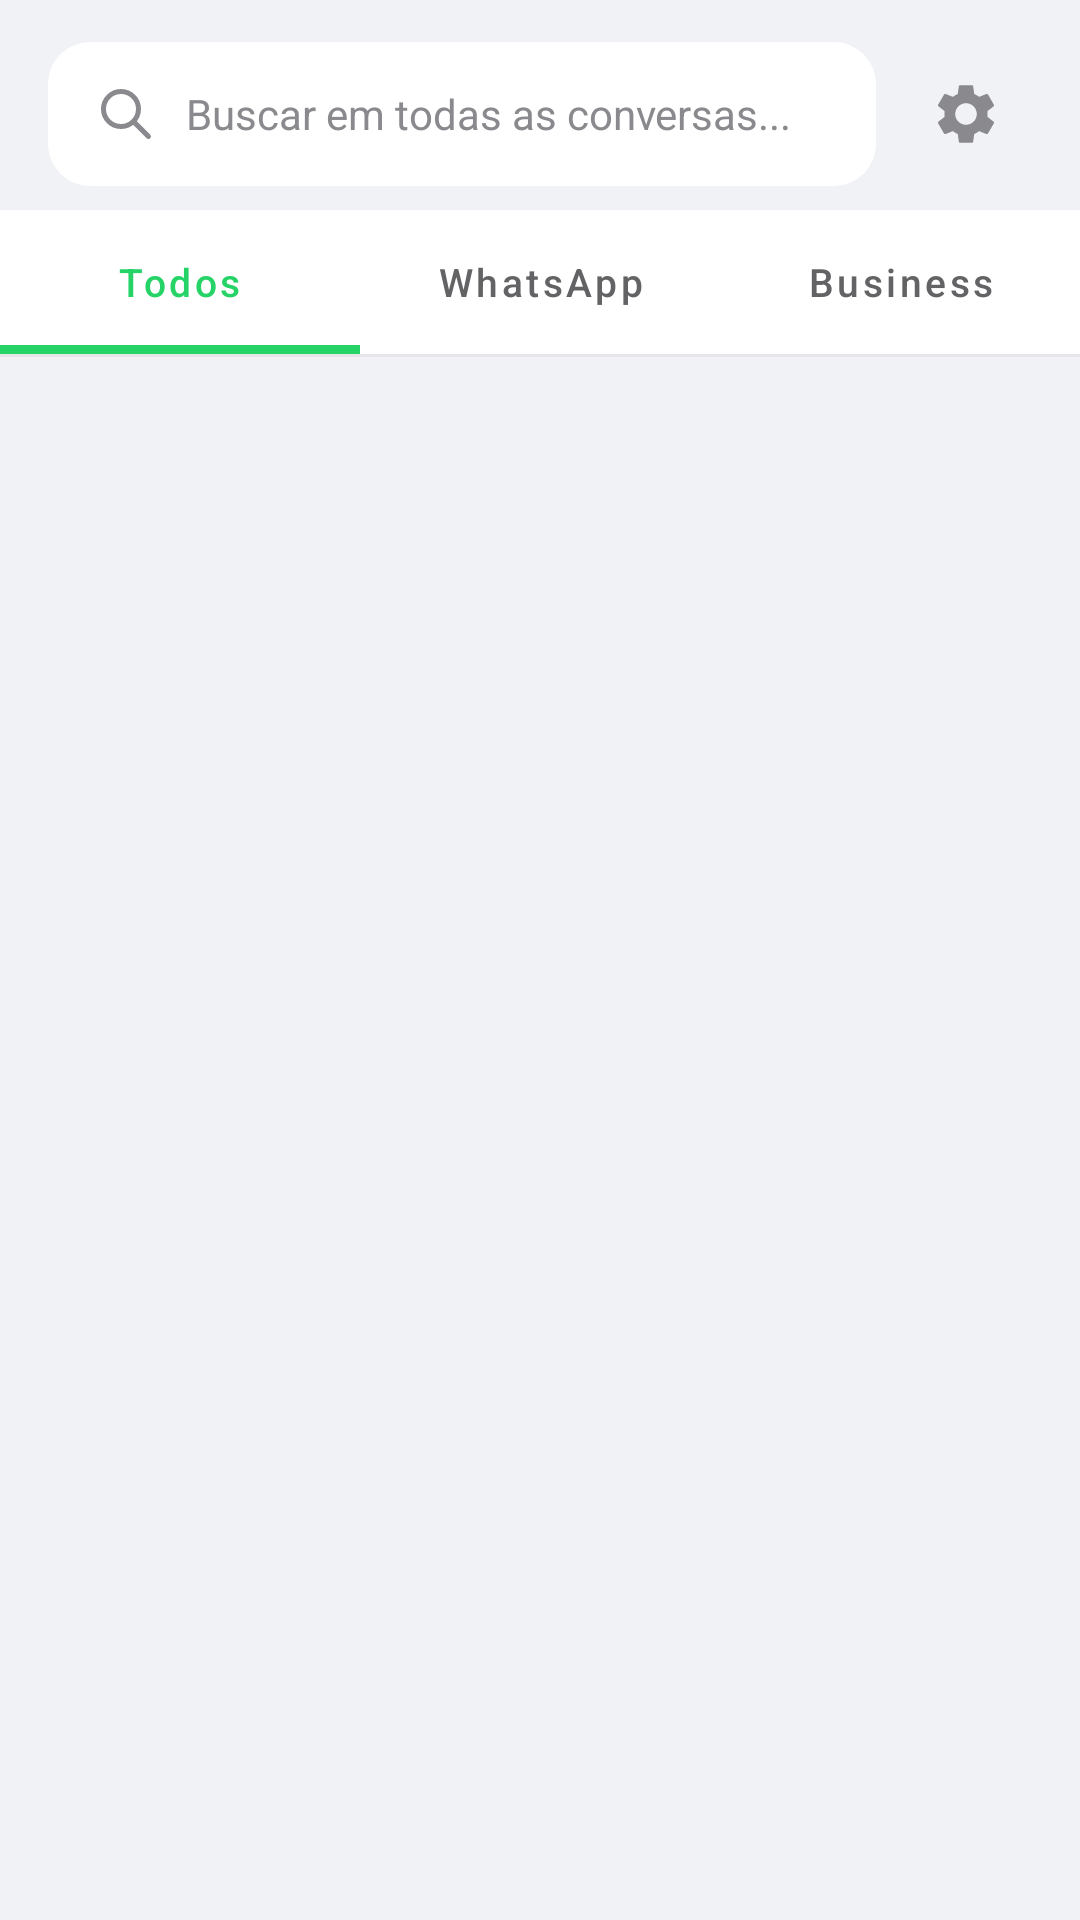

Icon click points for this 1080 × 1920 phone screenshot, format [x,y]:
Ajustes: [966,114]
